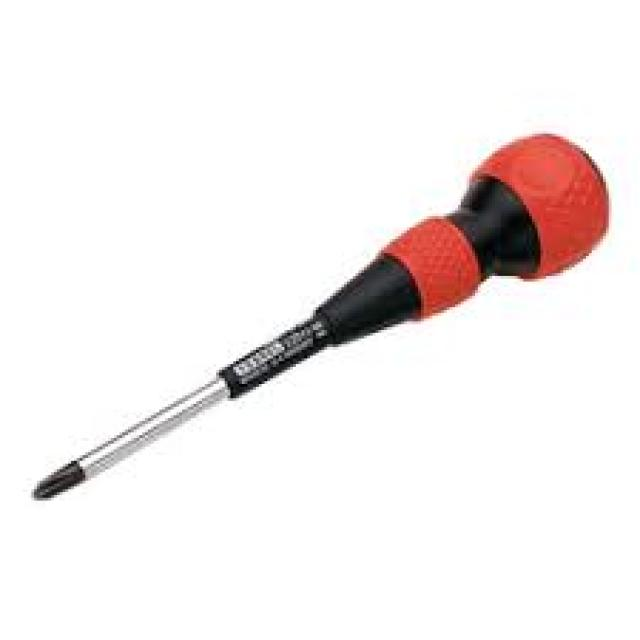Screwdriver: (34, 138, 609, 498)
